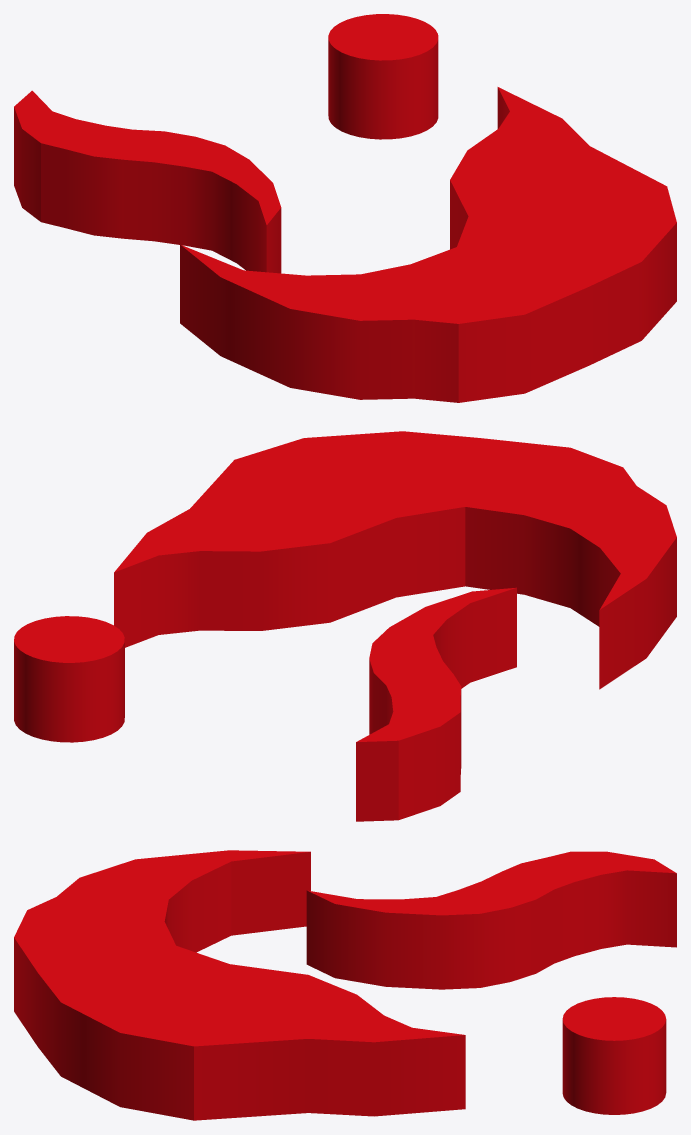
File: RedIcon.fbx
The picture shows the model from 3 angles, top to bottom: view 1: azimuth 30°, elevation 25°; view 2: azimuth 150°, elevation 25°; view 3: azimuth 270°, elevation 25°; orthographic projection. The views are drawn at different scales.
Parts seen in each view (by area): view 1: RedGroupIcon; view 2: RedGroupIcon; view 3: RedGroupIcon.
Boxes of the visible parts, <box> form: RedGroupIcon: <box>14,14,676,402</box>; RedGroupIcon: <box>14,431,676,821</box>; RedGroupIcon: <box>14,850,676,1120</box>.
Bounding box in the file's own units: 283 × 50 × 405.
